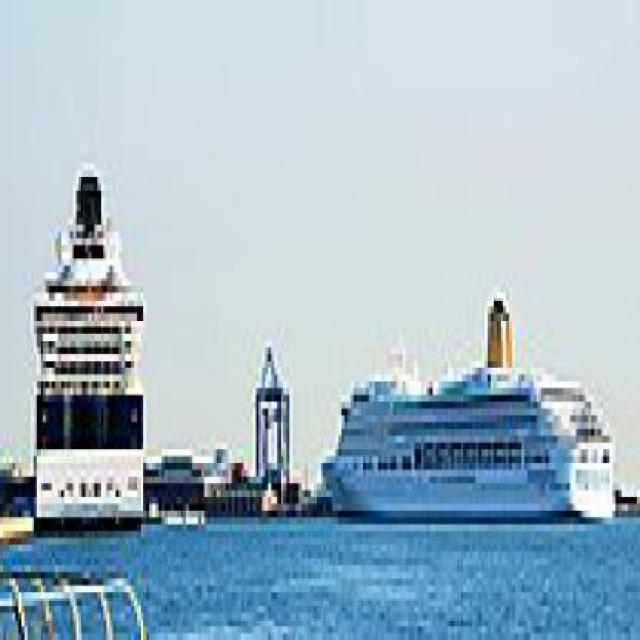cruise: (309, 321, 626, 539), (20, 144, 166, 540)
